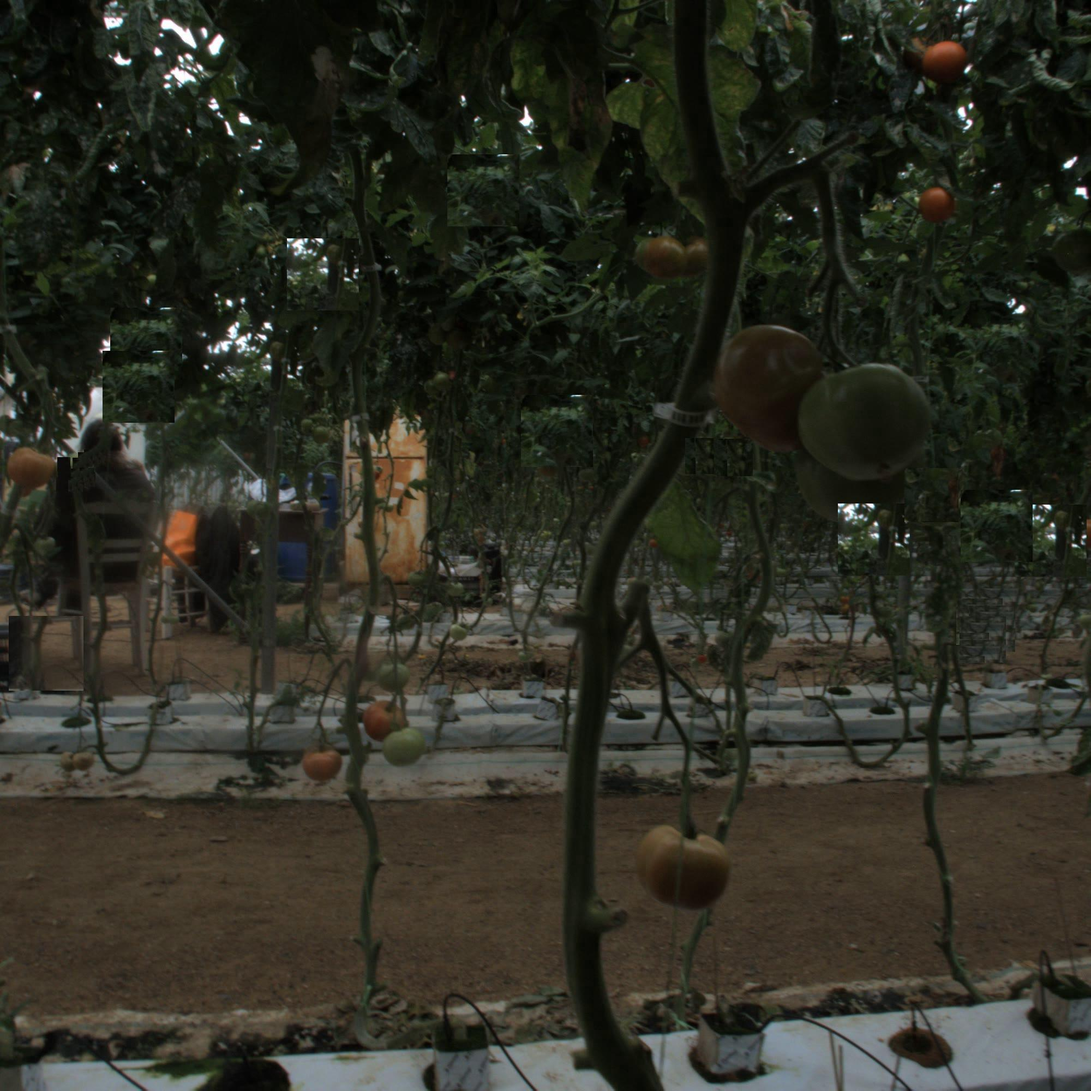['unripe', 'semi-ripe', 'fully-ripe']: (802, 357, 929, 483), (385, 728, 428, 771)
